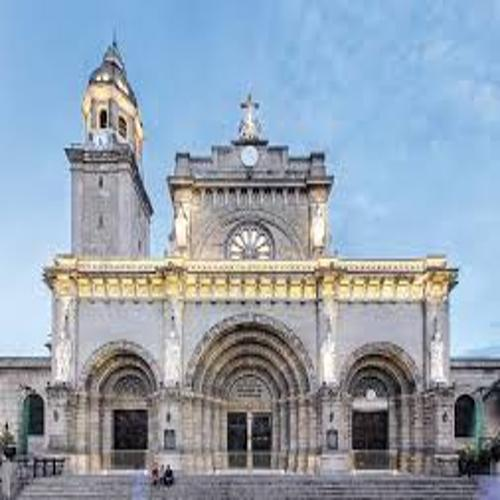Manila Cathedral Church: (24, 25, 474, 473)
